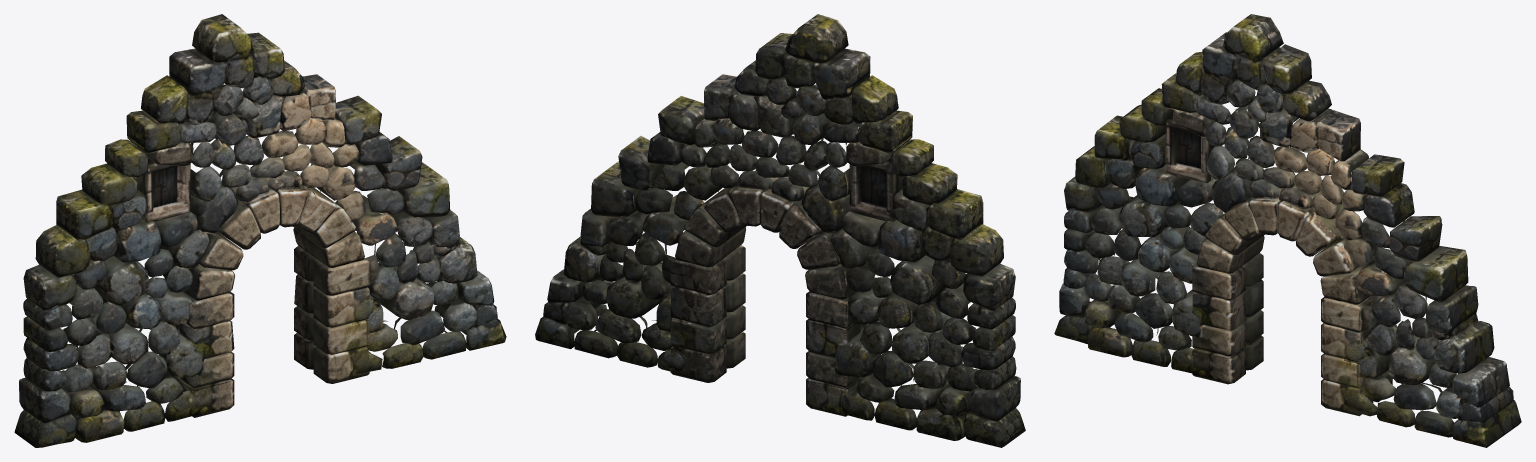
Rendered from act1_kit_v1_gable_wall.glb.
3 views of the same model, side by side, from view 1: azimuth 30°, elevation 25°; view 2: azimuth 150°, elevation 25°; view 3: azimuth 330°, elevation 25° (orthographic). The views are drawn at different scales.
Visible parts, largest first — view 1: act1_kit_v1_gable_wall; view 2: act1_kit_v1_gable_wall; view 3: act1_kit_v1_gable_wall.
Part boxes in pixels (bbox=[...]): act1_kit_v1_gable_wall: bbox=[14, 14, 506, 447]; act1_kit_v1_gable_wall: bbox=[535, 14, 1025, 447]; act1_kit_v1_gable_wall: bbox=[1054, 14, 1521, 447].
Size of the model in its own units: 1 by 0.7617 by 0.1457.
Materials: 1 (1 with a texture image).
